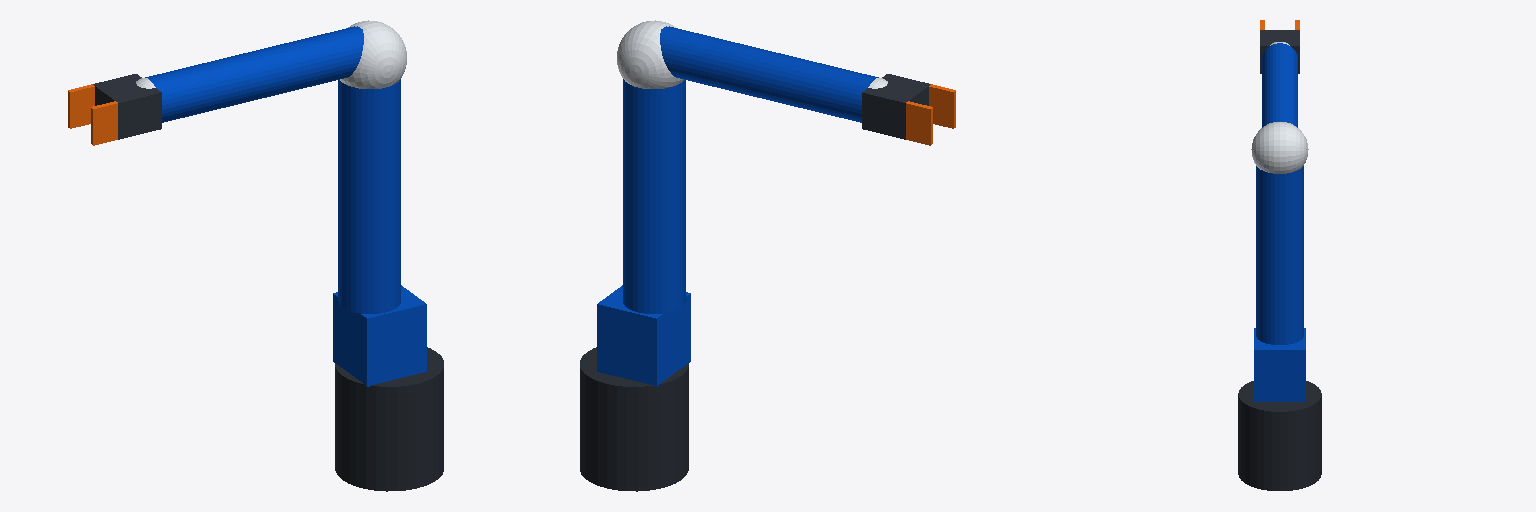
URDF robot description (Assem1):
<?xml version="1.0" encoding="utf-8"?>
<!-- Simplified Geometric D-H Model of YASKAWA GP7 6-DoF Robot Arm + Gripper
     Constructed directly from the Denavit-Hartenberg (D-H) parameter table:
     d1 = 0.330 m (0.199 + 0.131), a1 = 0.040 m, a2 = 0.445 m, a3 = 0.040 m, d4 = 0.442 m, d6 = 0.1125 m -->
<robot name="Assem1">

  <link name="world"/>
  <joint name="world_to_base_link" type="fixed">
    <origin xyz="0 0 0" rpy="0 0 0"/>
    <parent link="world"/>
    <child link="base_link"/>
  </joint>

  <link name="base_link">
    <inertial>
      <origin xyz="0 0 0.10" rpy="0 0 0"/>
      <mass value="5.215"/>
      <inertia ixx="0.026" ixy="0" ixz="0" iyy="0.025" iyz="0" izz="0.021"/>
    </inertial>
    <visual>
      <origin xyz="0 0 0.10" rpy="0 0 0"/>
      <geometry><cylinder radius="0.095" length="0.20"/></geometry>
      <material name="dark_grey"><color rgba="0.20 0.22 0.25 1"/></material>
    </visual>
    <collision>
      <origin xyz="0 0 0.10" rpy="0 0 0"/>
      <geometry><cylinder radius="0.095" length="0.20"/></geometry>
    </collision>
  </link>

  <link name="link1">
    <inertial>
      <origin xyz="-0.02 0 0.065" rpy="0 0 0"/>
      <mass value="2.945"/>
      <inertia ixx="0.011" ixy="0" ixz="0" iyy="0.012" iyz="0" izz="0.009"/>
    </inertial>
    <visual>
      <origin xyz="-0.02 0 0.065" rpy="0 0 0"/>
      <geometry><box size="0.12 0.12 0.131"/></geometry>
      <material name="yaskawa_blue"><color rgba="0.05 0.35 0.78 1"/></material>
    </visual>
  </link>

  <joint name="link0_to_link1_joint" type="revolute">
    <origin xyz="0 0 0.199" rpy="0 0 0"/>
    <parent link="base_link"/>
    <child link="link1"/>
    <axis xyz="0 0 1"/>
    <limit lower="-6.28318" upper="6.28318" effort="200" velocity="6.5"/>
  </joint>

  <link name="link2">
    <inertial>
      <origin xyz="0 0.2225 0" rpy="0 0 0"/>
      <mass value="6.240"/>
      <inertia ixx="0.126" ixy="0" ixz="0" iyy="0.028" iyz="0" izz="0.110"/>
    </inertial>
    <visual>
      <origin xyz="0 0.2225 0" rpy="1.5707963267949 0 0"/>
      <geometry><cylinder radius="0.055" length="0.445"/></geometry>
      <material name="yaskawa_blue"><color rgba="0.05 0.35 0.78 1"/></material>
    </visual>
  </link>

  <joint name="link1_to_link2_joint" type="revolute">
    <origin xyz="-0.040 0 0.131" rpy="1.5707963267949 0 3.14159265358979"/>
    <parent link="link1"/>
    <child link="link2"/>
    <axis xyz="0 0 -1"/>
    <limit lower="-3.14159" upper="3.14159" effort="200" velocity="5.5"/>
  </joint>

  <link name="link3">
    <inertial>
      <origin xyz="0.02 0 0" rpy="0 0 0"/>
      <mass value="2.849"/>
      <inertia ixx="0.007" ixy="0" ixz="0" iyy="0.008" iyz="0" izz="0.008"/>
    </inertial>
    <visual>
      <origin xyz="0.02 0 0" rpy="0 0 0"/>
      <geometry><sphere radius="0.065"/></geometry>
      <material name="yaskawa_white"><color rgba="0.88 0.90 0.92 1"/></material>
    </visual>
  </link>

  <joint name="link2_to_link3_joint" type="revolute">
    <origin xyz="0 0.445 0" rpy="0 0 1.5707963267949"/>
    <parent link="link2"/>
    <child link="link3"/>
    <axis xyz="0 0 -1"/>
    <limit lower="-3.14159" upper="3.14159" effort="200" velocity="7.0"/>
  </joint>

  <link name="link4">
    <inertial>
      <origin xyz="0 0 0.221" rpy="0 0 0"/>
      <mass value="2.755"/>
      <inertia ixx="0.010" ixy="0" ixz="0" iyy="0.011" iyz="0" izz="0.003"/>
    </inertial>
    <visual>
      <origin xyz="0 0 0.221" rpy="0 0 0"/>
      <geometry><cylinder radius="0.042" length="0.442"/></geometry>
      <material name="yaskawa_blue"><color rgba="0.05 0.35 0.78 1"/></material>
    </visual>
  </link>

  <joint name="link3_to_link4_joint" type="revolute">
    <origin xyz="0.040 0 0" rpy="1.5707963267949 0 0"/>
    <parent link="link3"/>
    <child link="link4"/>
    <axis xyz="0 0 1"/>
    <limit lower="-3.14159" upper="3.14159" effort="150" velocity="9.5"/>
  </joint>

  <link name="llink5">
    <inertial>
      <origin xyz="0 0 0" rpy="0 0 0"/>
      <mass value="0.246"/>
      <inertia ixx="0.0002" ixy="0" ixz="0" iyy="0.0002" iyz="0" izz="0.0002"/>
    </inertial>
    <visual>
      <origin xyz="0 0 0" rpy="0 0 0"/>
      <geometry><sphere radius="0.042"/></geometry>
      <material name="yaskawa_white"><color rgba="0.88 0.90 0.92 1"/></material>
    </visual>
  </link>

  <joint name="link4_to_llink5_joint" type="revolute">
    <origin xyz="0 0 0.442" rpy="-1.5707963267949 0 0"/>
    <parent link="link4"/>
    <child link="llink5"/>
    <axis xyz="0 0 -1"/>
    <limit lower="-3.14159" upper="3.14159" effort="150" velocity="9.5"/>
  </joint>

  <link name="link6">
    <inertial>
      <origin xyz="0 0 0.06" rpy="0 0 0"/>
      <mass value="0.056"/>
      <inertia ixx="0.0001" ixy="0" ixz="0" iyy="0.0001" iyz="0" izz="0.0001"/>
    </inertial>
    <visual>
      <origin xyz="0 0 0.04375" rpy="0 0 0"/>
      <geometry><box size="0.07 0.09 0.0875"/></geometry>
      <material name="dark_grey"><color rgba="0.22 0.24 0.28 1"/></material>
    </visual>
  </link>

  <joint name="link5_to_link6_joint" type="revolute">
    <origin xyz="0 0 0" rpy="1.5707963267949 0 0"/>
    <parent link="llink5"/>
    <child link="link6"/>
    <axis xyz="0 0 -1"/>
    <limit lower="-6.28318" upper="6.28318" effort="100" velocity="15.0"/>
  </joint>

  <link name="tcp_link"/>
  <joint name="link6_to_tcp_joint" type="fixed">
    <origin xyz="0 0 0.1125" rpy="0 0 0"/>
    <parent link="link6"/>
    <child link="tcp_link"/>
  </joint>

  <link name="link7">
    <inertial>
      <origin xyz="0 -0.025 0.04" rpy="0 0 0"/>
      <mass value="0.0275"/>
      <inertia ixx="1e-5" ixy="0" ixz="0" iyy="1e-5" iyz="0" izz="1e-5"/>
    </inertial>
    <visual>
      <origin xyz="0 -0.025 0.04" rpy="0 0 0"/>
      <geometry><box size="0.07 0.05 0.01"/></geometry>
      <material name="gripper_orange"><color rgba="0.95 0.45 0.10 1"/></material>
    </visual>
  </link>

  <joint name="link6_to_link7_joint" type="prismatic">
    <origin xyz="0 0 0.0875" rpy="-1.5707963267949 0 0"/>
    <parent link="link6"/>
    <child link="link7"/>
    <axis xyz="0 0 1"/>
    <limit lower="-0.025" upper="0" effort="50" velocity="0.5"/>
  </joint>

  <link name="link8">
    <inertial>
      <origin xyz="0 -0.025 -0.04" rpy="0 0 0"/>
      <mass value="0.0275"/>
      <inertia ixx="1e-5" ixy="0" ixz="0" iyy="1e-5" iyz="0" izz="1e-5"/>
    </inertial>
    <visual>
      <origin xyz="0 -0.025 -0.04" rpy="0 0 0"/>
      <geometry><box size="0.07 0.05 0.01"/></geometry>
      <material name="gripper_orange"><color rgba="0.95 0.45 0.10 1"/></material>
    </visual>
  </link>

  <joint name="link6_to_link8_joint" type="prismatic">
    <origin xyz="0 0 0.0875" rpy="-1.5707963267949 0 0"/>
    <parent link="link6"/>
    <child link="link8"/>
    <axis xyz="0 0 1"/>
    <limit lower="0" upper="0.025" effort="50" velocity="0.5"/>
  </joint>

  <gazebo>
    <plugin filename="gz-sim-joint-state-publisher-system" name="gz::sim::systems::JointStatePublisher">
      <topic>/joint_states</topic>
    </plugin>
    <plugin filename="gz-sim-joint-position-controller-system" name="gz::sim::systems::JointPositionController">
      <joint_name>link0_to_link1_joint</joint_name>
      <use_velocity_commands>true</use_velocity_commands>
      <p_gain>18.0</p_gain><cmd_max>6.5</cmd_max><topic>/gp7/joint1/cmd_pos</topic>
    </plugin>
    <plugin filename="gz-sim-joint-position-controller-system" name="gz::sim::systems::JointPositionController">
      <joint_name>link1_to_link2_joint</joint_name>
      <use_velocity_commands>true</use_velocity_commands>
      <p_gain>18.0</p_gain><cmd_max>5.5</cmd_max><topic>/gp7/joint2/cmd_pos</topic>
    </plugin>
    <plugin filename="gz-sim-joint-position-controller-system" name="gz::sim::systems::JointPositionController">
      <joint_name>link2_to_link3_joint</joint_name>
      <use_velocity_commands>true</use_velocity_commands>
      <p_gain>18.0</p_gain><cmd_max>7.0</cmd_max><topic>/gp7/joint3/cmd_pos</topic>
    </plugin>
    <plugin filename="gz-sim-joint-position-controller-system" name="gz::sim::systems::JointPositionController">
      <joint_name>link3_to_link4_joint</joint_name>
      <use_velocity_commands>true</use_velocity_commands>
      <p_gain>18.0</p_gain><cmd_max>9.5</cmd_max><topic>/gp7/joint4/cmd_pos</topic>
    </plugin>
    <plugin filename="gz-sim-joint-position-controller-system" name="gz::sim::systems::JointPositionController">
      <joint_name>link4_to_llink5_joint</joint_name>
      <use_velocity_commands>true</use_velocity_commands>
      <p_gain>18.0</p_gain><cmd_max>9.5</cmd_max><topic>/gp7/joint5/cmd_pos</topic>
    </plugin>
    <plugin filename="gz-sim-joint-position-controller-system" name="gz::sim::systems::JointPositionController">
      <joint_name>link5_to_link6_joint</joint_name>
      <use_velocity_commands>true</use_velocity_commands>
      <p_gain>18.0</p_gain><cmd_max>15.0</cmd_max><topic>/gp7/joint6/cmd_pos</topic>
    </plugin>
    <plugin filename="gz-sim-joint-position-controller-system" name="gz::sim::systems::JointPositionController">
      <joint_name>link6_to_link7_joint</joint_name>
      <use_velocity_commands>true</use_velocity_commands>
      <p_gain>15.0</p_gain><cmd_max>0.5</cmd_max><topic>/gp7/gripper_left/cmd_pos</topic>
    </plugin>
    <plugin filename="gz-sim-joint-position-controller-system" name="gz::sim::systems::JointPositionController">
      <joint_name>link6_to_link8_joint</joint_name>
      <use_velocity_commands>true</use_velocity_commands>
      <p_gain>15.0</p_gain><cmd_max>0.5</cmd_max><topic>/gp7/gripper_right/cmd_pos</topic>
    </plugin>
    <plugin filename="gz-sim-detachable-joint-system" name="gz::sim::systems::DetachableJoint">
      <parent_link>link6</parent_link>
      <child_model>box_b</child_model>
      <child_link>box_b_link</child_link>
      <detach_topic>/gp7/gripper/detach</detach_topic>
      <attach_topic>/gp7/gripper/attach</attach_topic>
    </plugin>
  </gazebo>

</robot>

--- Facts derived from the render (not from the file) ---
The picture shows the robot from 3 angles, left to right: view 1: azimuth 30°, elevation 25°; view 2: azimuth 150°, elevation 25°; view 3: azimuth 270°, elevation 25°; orthographic projection.
Robot: Assem1 — 11 links, 10 joints (6 revolute, 2 prismatic, 2 fixed); root link world; default pose: all joints at 0.
Visible links, largest first — view 1: link2, base_link, link4, link1, link3, link6, link8, link7; view 2: link2, base_link, link4, link1, link3, link6, link7, link8; view 3: link2, base_link, link1, link4, link3, link6.
Boxes of the visible links, x1=… form: link2: x1=338, y1=79, x2=400, y2=313; base_link: x1=335, y1=347, x2=443, y2=491; link4: x1=145, y1=26, x2=363, y2=122; link1: x1=333, y1=285, x2=426, y2=386; link3: x1=340, y1=20, x2=406, y2=88; link6: x1=93, y1=74, x2=161, y2=139; link8: x1=91, y1=101, x2=117, y2=145; link7: x1=68, y1=84, x2=94, y2=128; link2: x1=623, y1=79, x2=685, y2=313; base_link: x1=580, y1=347, x2=688, y2=491; link4: x1=660, y1=26, x2=878, y2=122; link1: x1=597, y1=285, x2=690, y2=386; link3: x1=617, y1=20, x2=683, y2=88; link6: x1=862, y1=74, x2=930, y2=139; link7: x1=906, y1=101, x2=932, y2=145; link8: x1=929, y1=84, x2=955, y2=128; link2: x1=1256, y1=166, x2=1303, y2=344; base_link: x1=1238, y1=381, x2=1321, y2=490; link1: x1=1254, y1=328, x2=1305, y2=401; link4: x1=1262, y1=43, x2=1297, y2=127; link3: x1=1251, y1=122, x2=1308, y2=173; link6: x1=1260, y1=30, x2=1299, y2=73.
Bounding box of the posed robot: 0.7145 × 0.19 × 0.86 m (x, y, z).
Geometry: primitives only (box / cylinder / sphere), no mesh files.
